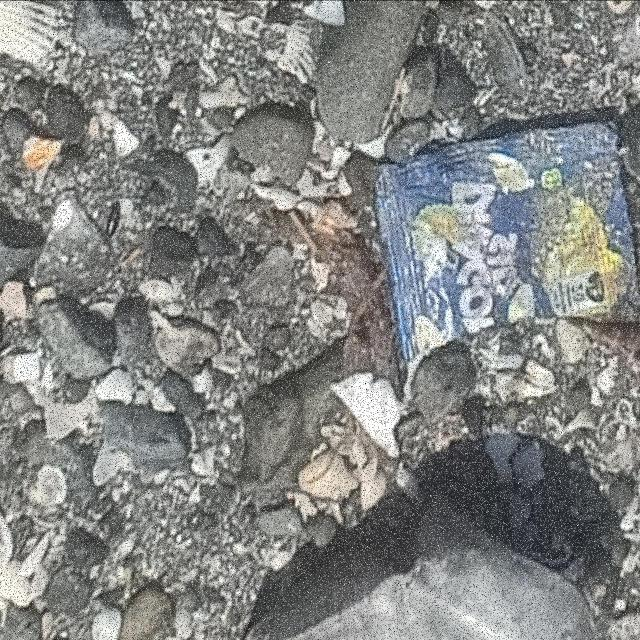plastic_waste: (371, 118, 640, 367)
